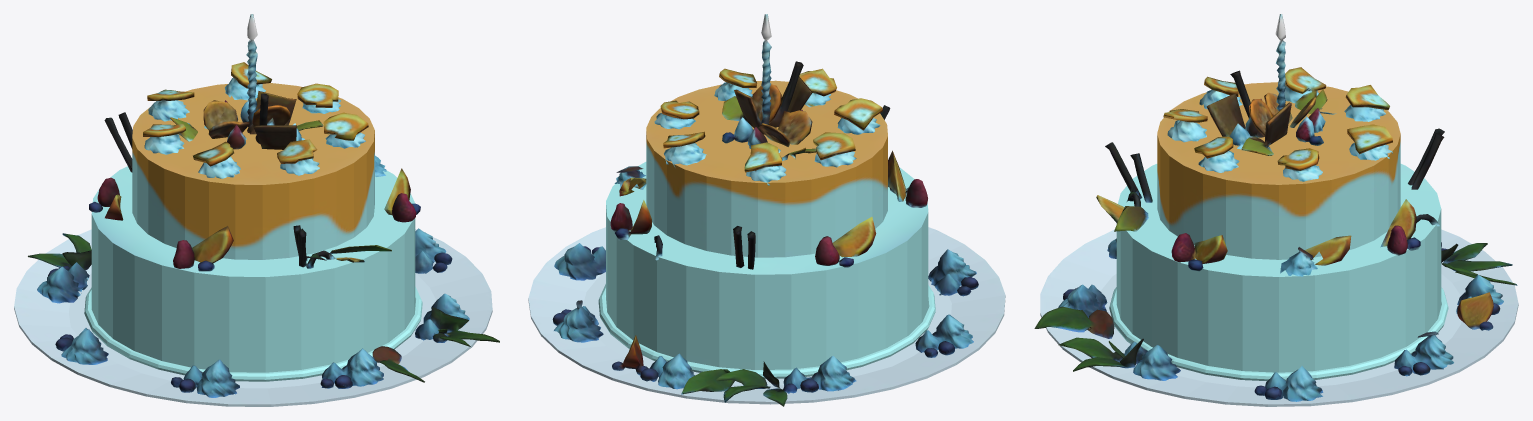
Rendered from denia_cake_0.obj.
3 renders of one model, left to right at view 1: azimuth 30°, elevation 25°; view 2: azimuth 150°, elevation 25°; view 3: azimuth 270°, elevation 25°, orthographic.
Parts seen in each view (by area): view 1: cake; view 2: cake; view 3: cake.
Boxes of the visible parts, x1=… form: cake: x1=14, y1=14, x2=499, y2=406; cake: x1=528, y1=14, x2=1005, y2=406; cake: x1=1034, y1=14, x2=1518, y2=406.
Size of the model in its own units: 0.959 by 0.6594 by 0.9697.
